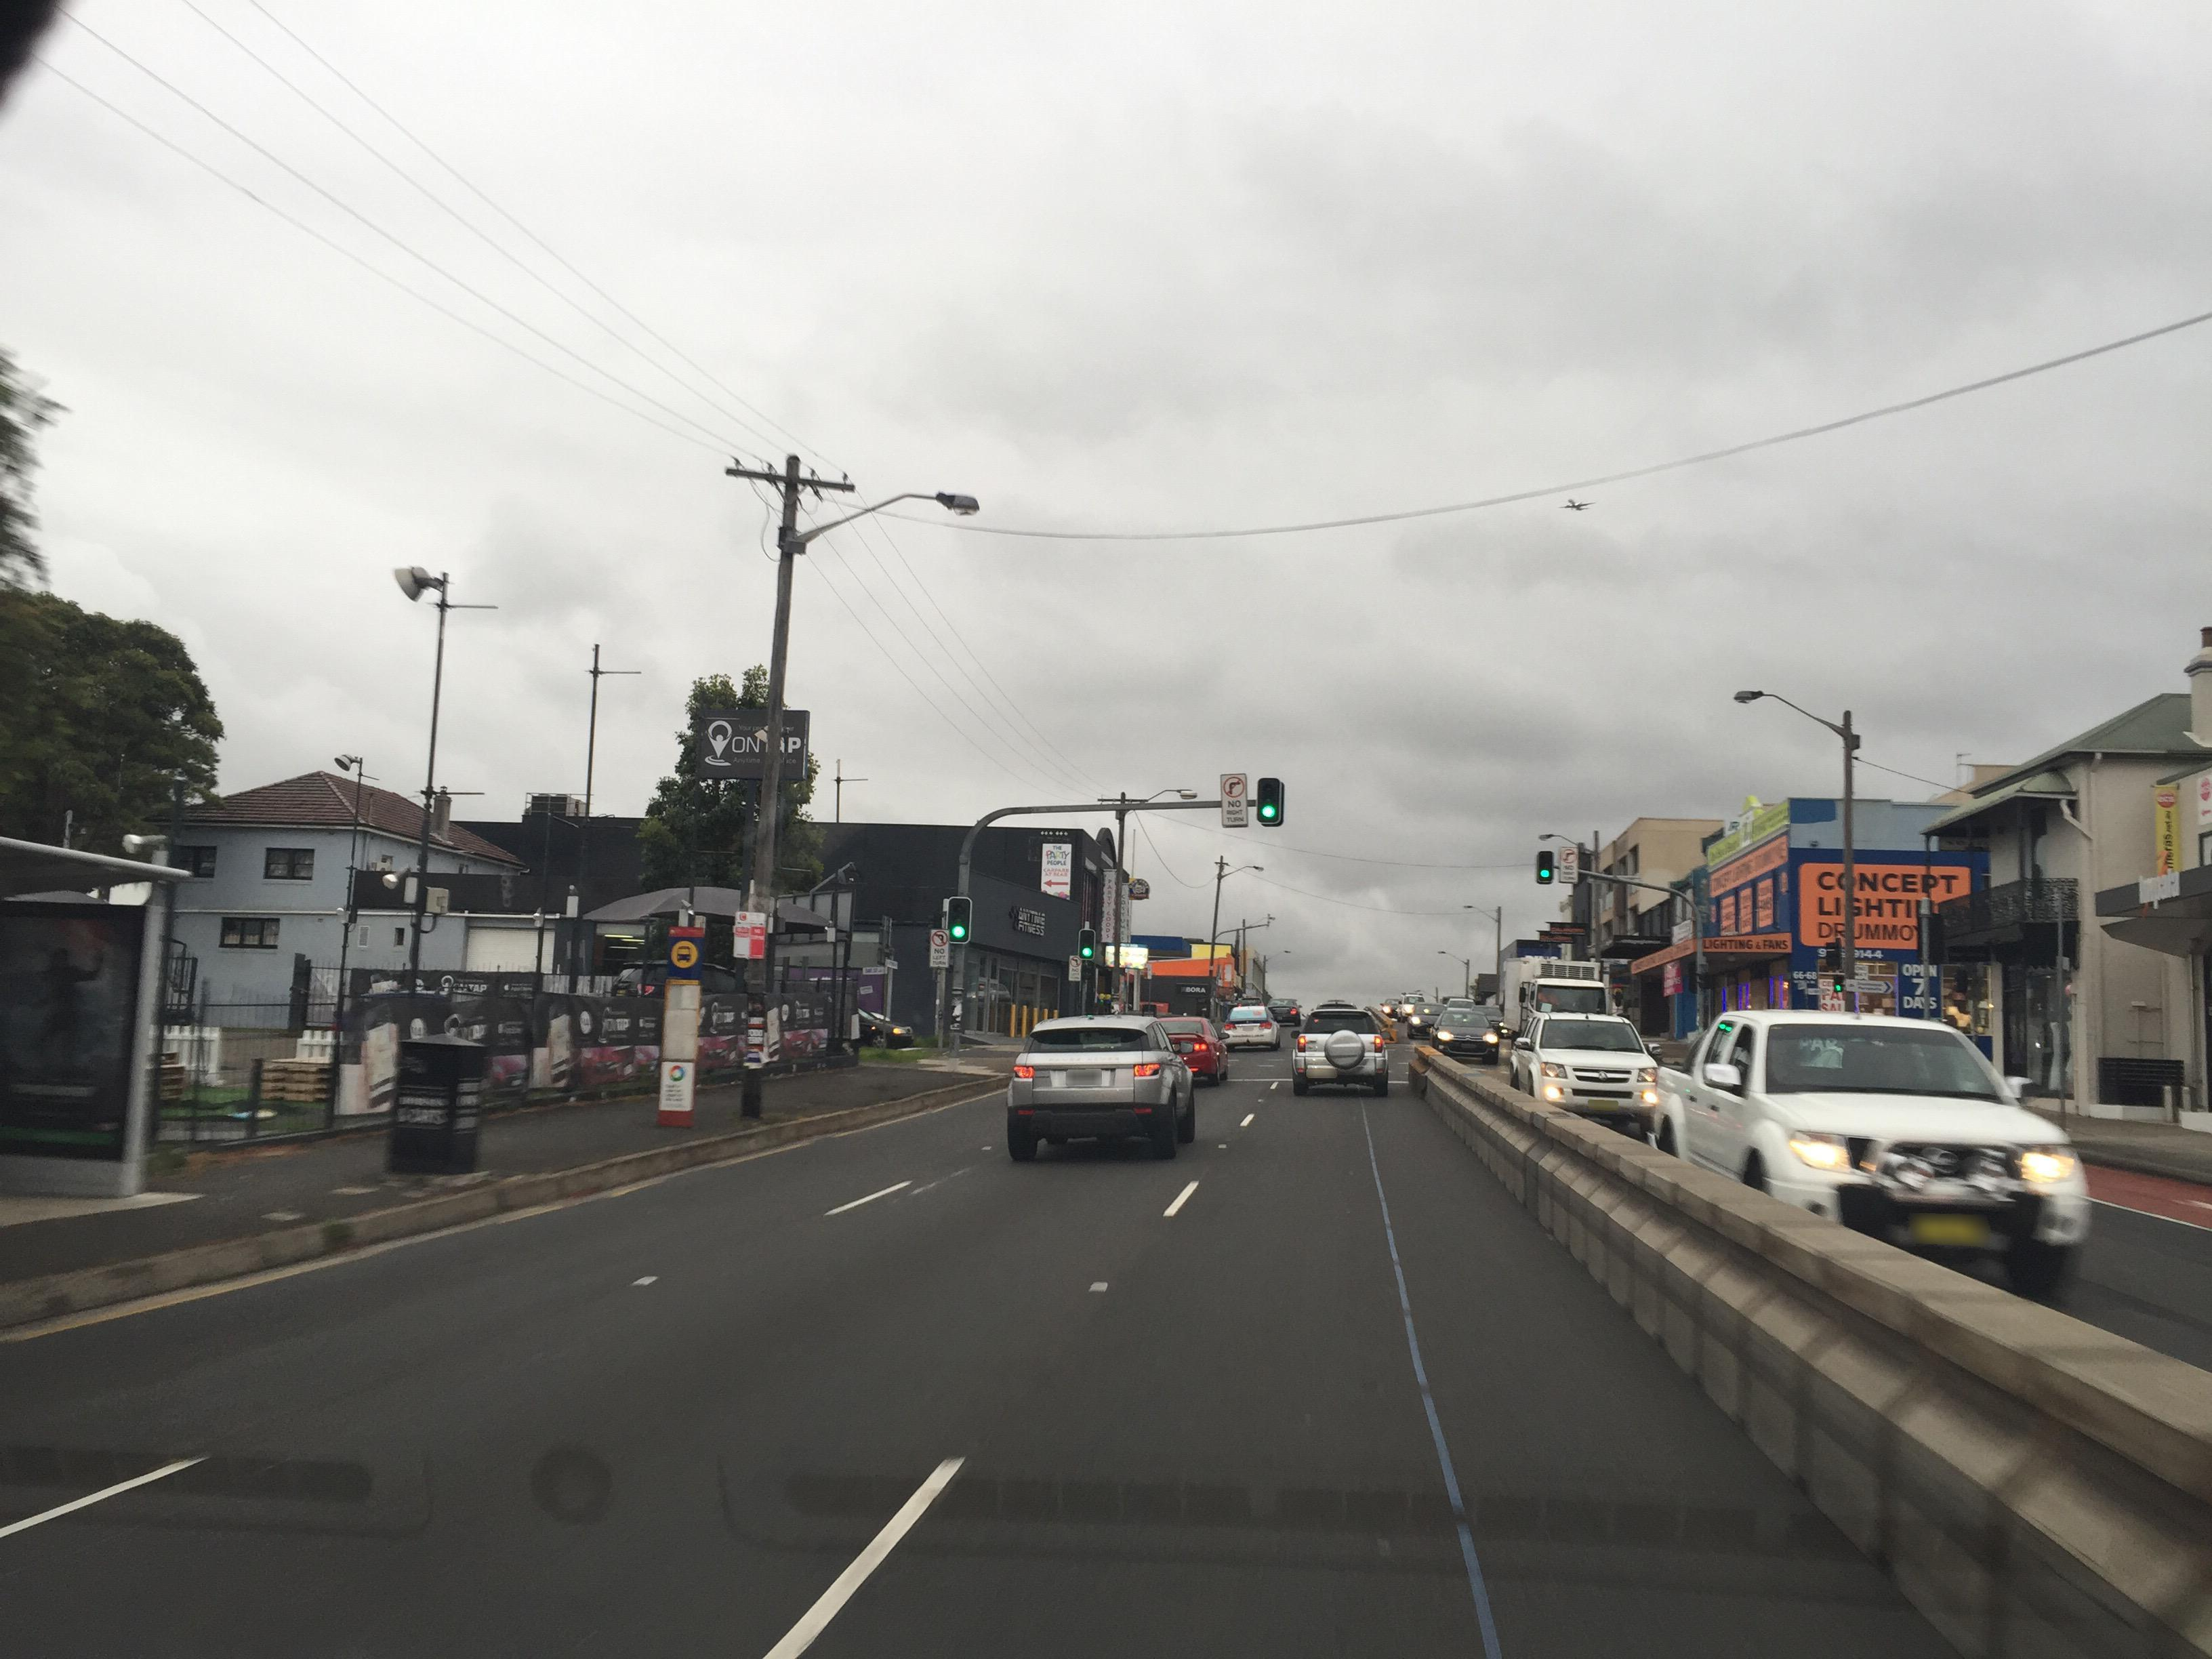vinyl banner: (317, 962, 864, 1122)
